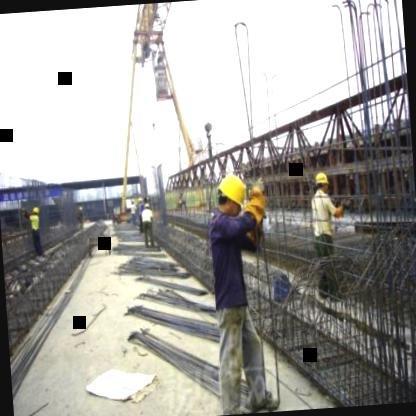helmet: (215, 172, 249, 218), (313, 169, 331, 195), (30, 204, 40, 219)
